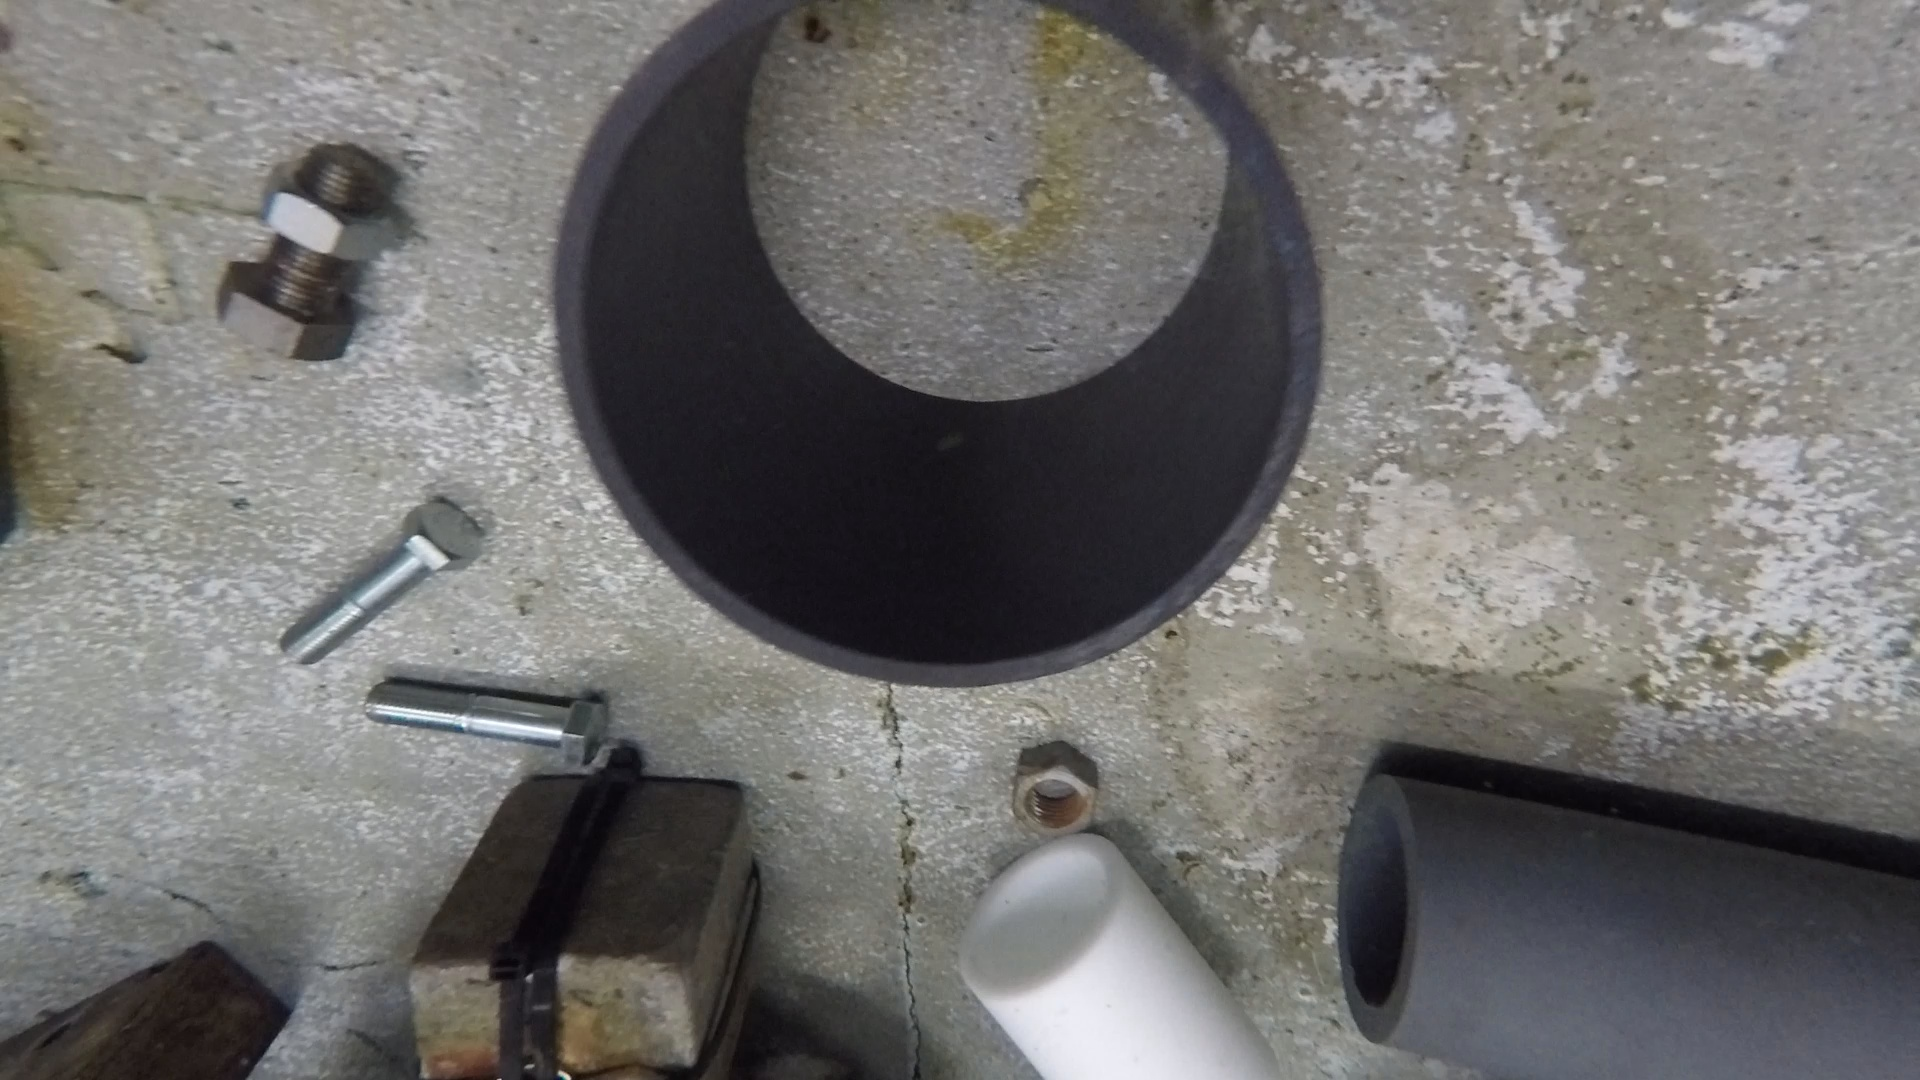bolt: (278, 495, 483, 665), (214, 142, 371, 363), (365, 676, 607, 767)
led_block: (407, 752, 761, 1080), (1, 940, 289, 1077)
nut: (253, 158, 393, 261), (1011, 740, 1102, 837)
pipe: (549, 1, 1325, 690), (1336, 771, 1920, 1077), (957, 832, 1294, 1080)
